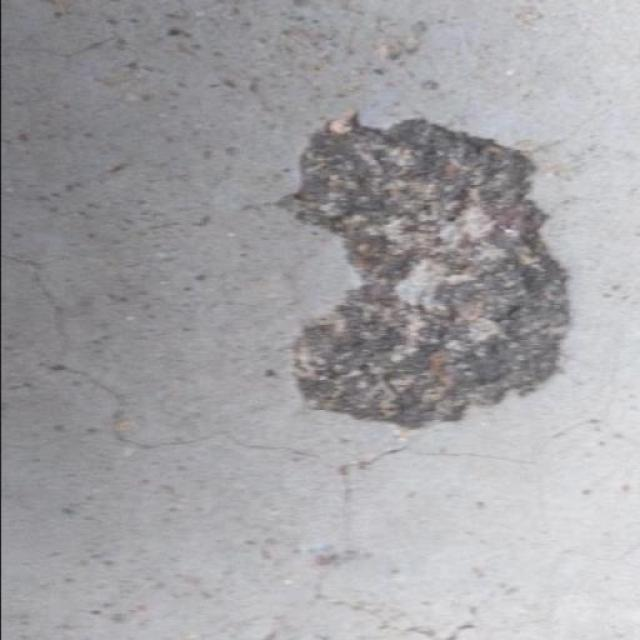D10: (289, 112, 569, 430)
